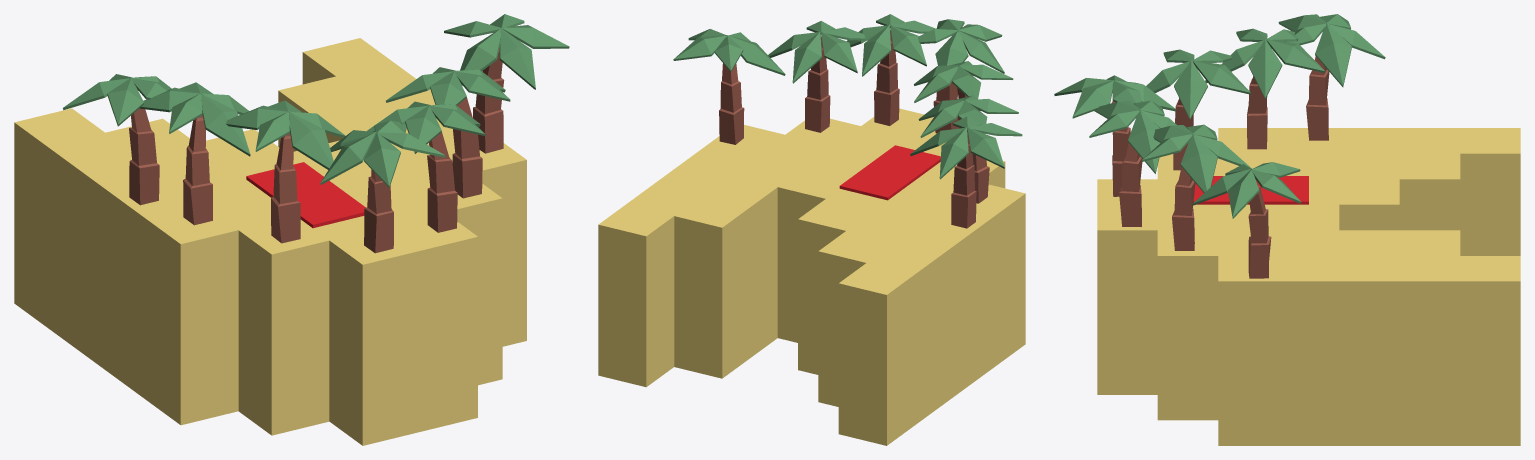
File: LAST_LEVEL_002.fbx
The picture shows the model from 3 angles, left to right: view 1: azimuth 30°, elevation 25°; view 2: azimuth 150°, elevation 25°; view 3: azimuth 270°, elevation 25°; orthographic projection. The views are drawn at different scales.
Visible parts, largest first — view 1: Last_level, Feuilles_7, Feuilles_3, Feuilles_4, Feuilles_2, Serviette, Feuilles_6, Palmier_2, Palmier_3, Palmier_1, Feuilles_1, Palmier_5 (+4 smaller); view 2: Last_level, Serviette, Feuilles_1, Feuilles_6, Feuilles_4, Feuilles_5, Feuilles_7, Feuilles_3, Feuilles_2, Palmier_7, Palmier_5, Palmier_1 (+3 smaller); view 3: Last_level, Feuilles_3, Feuilles_2, Feuilles_6, Feuilles_1, Feuilles_5, Feuilles_7, Feuilles_4, Palmier_7, Palmier_6, Palmier_5, Palmier_1 (+4 smaller).
Part boxes in pixels (x1,y1,x2,y2): Last_level: (14,38,526,445); Feuilles_7: (444,14,569,89); Feuilles_3: (226,100,345,169); Feuilles_4: (320,120,445,187); Feuilles_2: (139,82,250,156); Serviette: (246,162,365,228); Feuilles_6: (386,67,510,105); Palmier_2: (183,115,212,225); Palmier_3: (271,133,300,243); Palmier_1: (129,108,159,205); Feuilles_1: (63,74,171,126); Palmier_5: (427,131,457,232); Last_level: (598,108,1025,445); Serviette: (839,145,940,200); Feuilles_1: (910,116,1022,179); Feuilles_6: (768,21,869,83); Feuilles_4: (918,19,1004,73); Feuilles_5: (846,14,936,76); Feuilles_7: (673,29,785,75); Feuilles_3: (914,61,1013,102); Feuilles_2: (918,95,1018,137); Palmier_7: (719,63,744,144); Palmier_5: (874,30,899,125); Palmier_1: (951,132,976,228); Last_level: (1097,128,1520,445); Feuilles_3: (1146,49,1250,119); Feuilles_2: (1205,28,1325,99); Feuilles_6: (1142,124,1251,192); Feuilles_1: (1278,14,1385,87); Feuilles_5: (1089,100,1176,173); Feuilles_7: (1192,162,1301,218); Feuilles_4: (1054,75,1176,118); Palmier_7: (1248,179,1271,278); Palmier_6: (1172,167,1195,250); Palmier_5: (1119,143,1142,226); Palmier_1: (1306,56,1329,140).
Bounding box in the file's own units: 1536 × 1003 × 1542.
